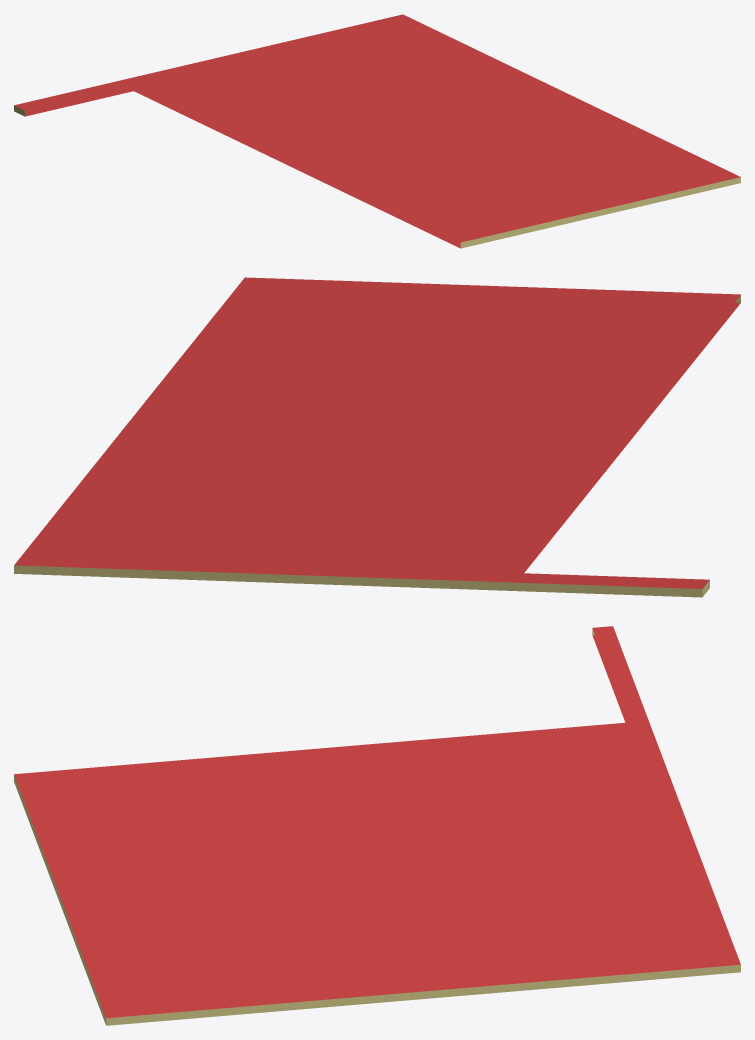
3 views of the same model, one above another, from view 1: azimuth 30°, elevation 25°; view 2: azimuth 150°, elevation 25°; view 3: azimuth 270°, elevation 25° (orthographic). The views are drawn at different scales.
Bounding box in the file's own units: 9.13 × 8.64 × 0.985.
